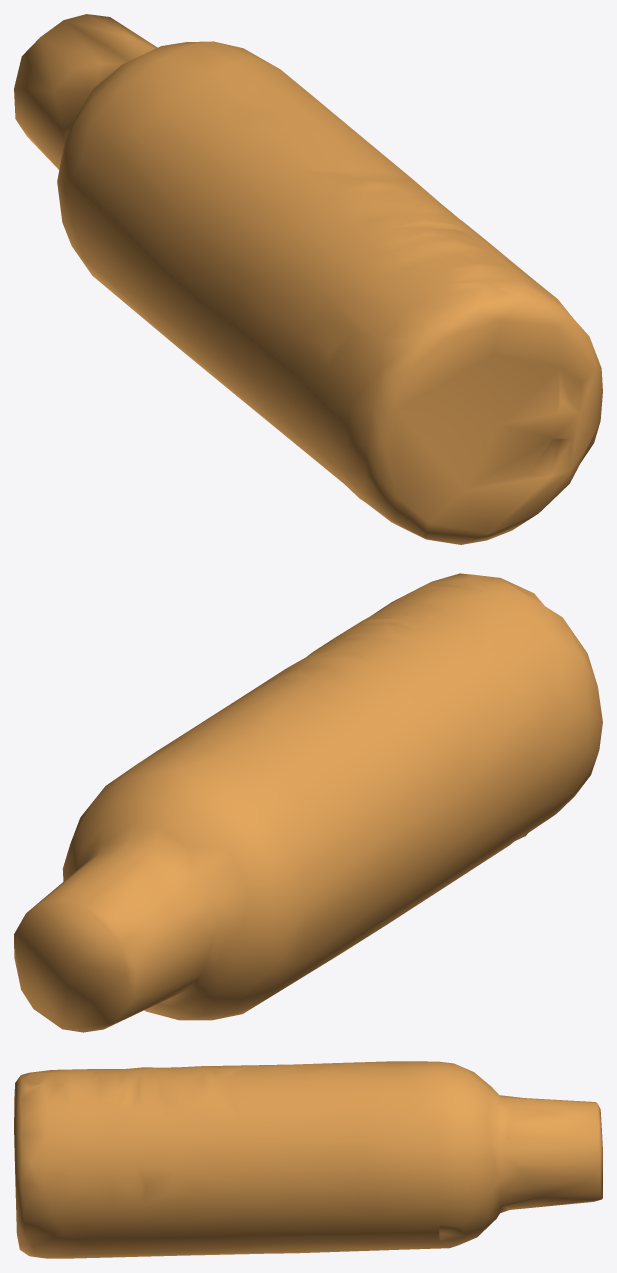
Rendered from bottle2_6.dae.
3 renders of one model, top to bottom at view 1: azimuth 30°, elevation 25°; view 2: azimuth 150°, elevation 25°; view 3: azimuth 270°, elevation 25°, orthographic. The views are drawn at different scales.
Visible parts, largest first — view 1: BathDetergent_800_tex_019; view 2: BathDetergent_800_tex_019; view 3: BathDetergent_800_tex_019.
Boxes of the visible parts, box(x1,y1,x2,y2) form: BathDetergent_800_tex_019: box(14, 14, 602, 544); BathDetergent_800_tex_019: box(14, 573, 602, 1032); BathDetergent_800_tex_019: box(14, 1061, 602, 1258).
Size of the model in its own units: 0.0435 by 0.131 by 0.045.
